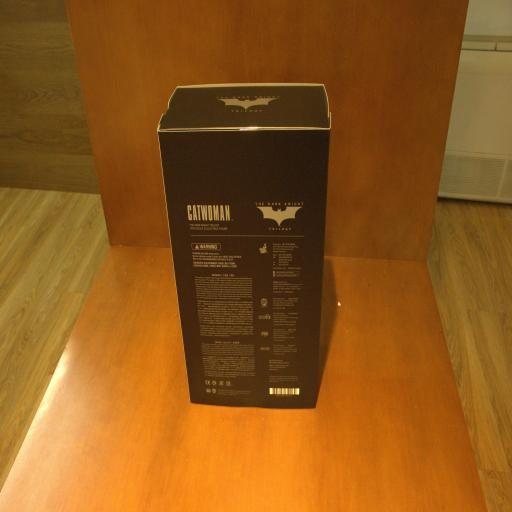catwoman: (158, 83, 330, 411)
